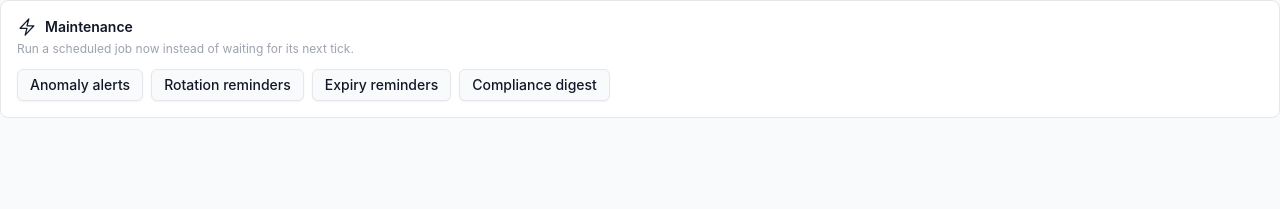
Test: MaintenanceSection › runs the job and surfaces the result count on success
The width and height of the screenshot is (1280, 209).
What coordinates should you click on to do the following:
click the button "Anomaly alerts"
I would click on:
 (80, 85)
Its box is [17,69,143,101].
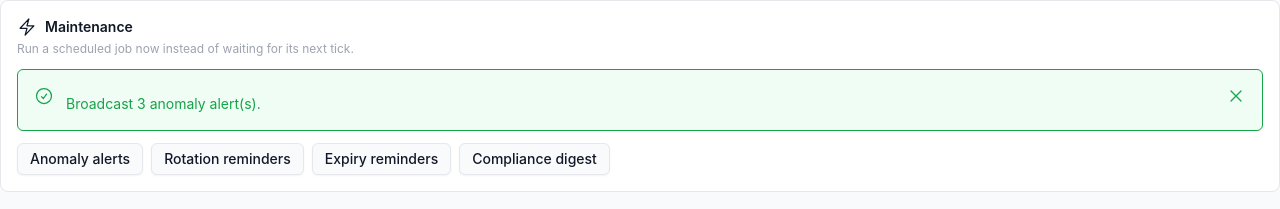
Result: the text "Broadcast 3 anomaly alert(s)." is shown at [66,95,261,112]
